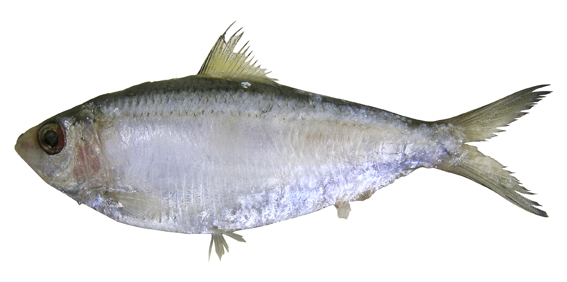fish: (15, 20, 553, 264)
